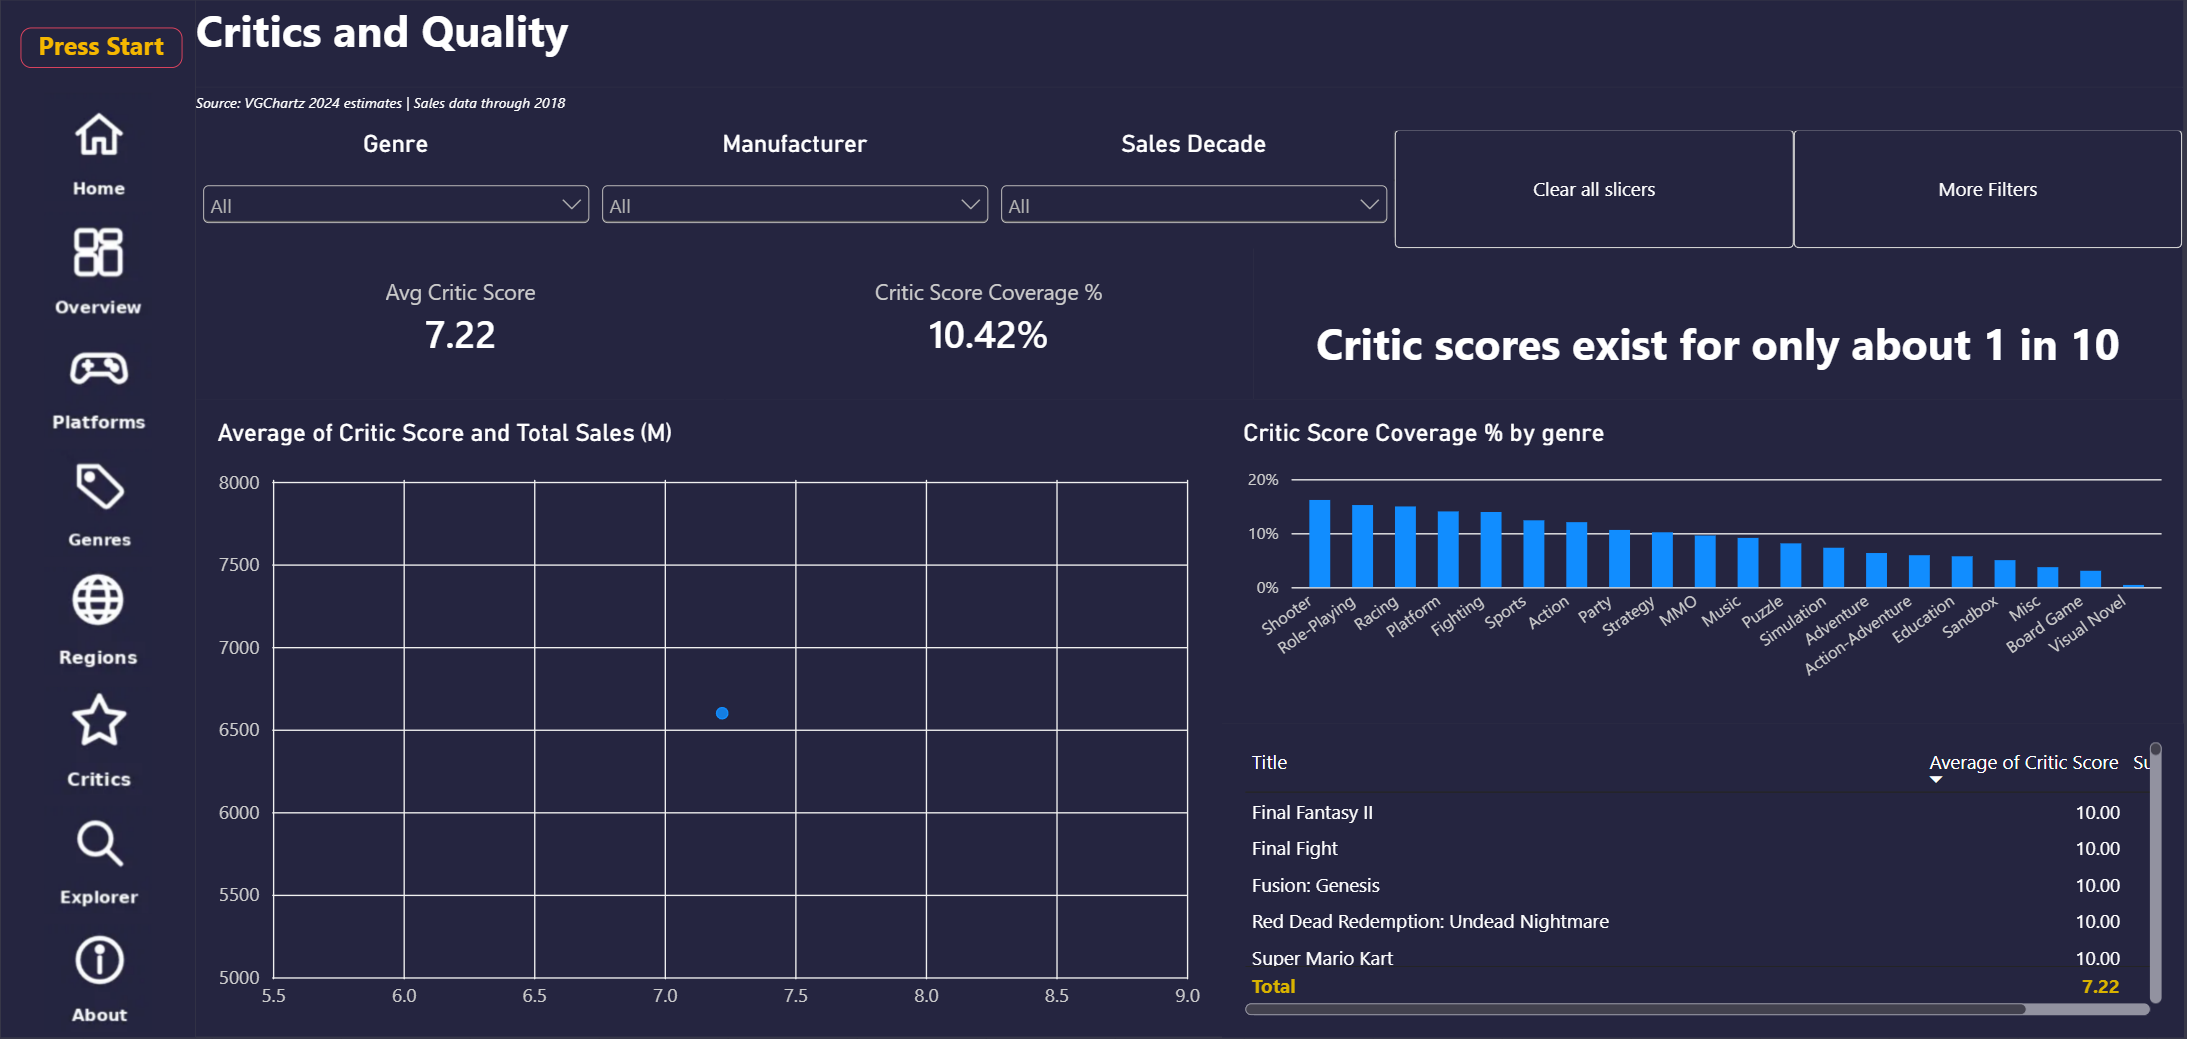

This screenshot's page, from the dashboard's own definition file:
{"tool":"powerbi","page":{"name":"Critics","canvas":[1920,1080],"ordinal":5},"visuals":[{"type":"shape","box":[35.6,59,144,768],"z":0},{"type":"textbox","box":[49.6,79,120,30],"z":1000},{"type":"textbox","box":[179.6,123,1472,32],"z":1000,"group":"g1"},{"type":"textbox","box":[179.6,59,1472,64],"z":2000},{"type":"cardVisual","fields":{"Data":["Games.Avg Critic Score"]},"box":[179.6,235,392,120],"z":3000},{"type":"cardVisual","fields":{"Data":["Games.Critic Score Coverage %"]},"box":[571.6,235,392,120],"z":4000},{"type":"textbox","box":[963.6,235,688,120],"z":5000},{"type":"scatterChart","fields":{"X":["Avg(Games.critic_score)"],"Y":["Games.Total Sales (M)"]},"box":[179.6,355,760,472],"z":6000},{"type":"clusteredColumnChart","fields":{"Category":["Games.Genre"],"Y":["Games.Critic Score Coverage %"]},"box":[939.6,355,712,240],"z":7000},{"type":"tableEx","fields":{"Values":["Games.title","Avg(Games.critic_score)","Sum(Games.total_sales)"]},"box":[939.6,595,712,232],"z":8000},{"type":"actionButton","box":[35.6,123,144,88],"z":10000},{"type":"actionButton","box":[35.6,299,144,88],"z":11000},{"type":"actionButton","box":[35.6,211,144,88],"z":12000},{"type":"actionButton","box":[35.6,387,144,88],"z":13000},{"type":"actionButton","box":[35.6,475,144,88],"z":14000},{"type":"actionButton","box":[35.6,563,144,88],"z":15000},{"type":"actionButton","box":[35.6,651,144,88],"z":16000},{"type":"actionButton","box":[35.6,739,144,88],"z":17000},{"type":"slicer","title":"Genre","fields":{"Values":["Games.Genre"]},"box":[179.6,155,296,88],"z":18000},{"type":"slicer","title":"Manufacturer","fields":{"Values":["Console_Map.Manufacturer"]},"box":[475.6,155,296,88],"z":19000},{"type":"slicer","title":"Sales Decade","fields":{"Values":["Games.sales_decade"]},"box":[771.6,155,296,88],"z":20000},{"type":"actionButton","box":[1067.6,155,296,88],"z":21000},{"type":"actionButton","box":[1363.6,155,288,88],"z":22000},{"type":"group","id":"g1","title":"Group 1","box":[179.6,123,1472,32],"z":23000}]}

Visuals, with their boxes on the page's 1920x1080 design canvas (x1, y1, x2, y2). These are canvas units, not pixel positions in the 2187x1039 screenshot, which may show the page scaled, cropped or inside an application window:
shape: <bbox>36, 59, 180, 827</bbox>
textbox: <bbox>50, 79, 170, 109</bbox>
textbox: <bbox>180, 123, 1652, 155</bbox>
textbox: <bbox>180, 59, 1652, 123</bbox>
cardVisual - Games.Avg Critic Score: <bbox>180, 235, 572, 355</bbox>
cardVisual - Games.Critic Score Coverage %: <bbox>572, 235, 964, 355</bbox>
textbox: <bbox>964, 235, 1652, 355</bbox>
scatterChart - Avg(Games.critic_score) x Games.Total Sales (M): <bbox>180, 355, 940, 827</bbox>
clusteredColumnChart - Games.Genre x Games.Critic Score Coverage %: <bbox>940, 355, 1652, 595</bbox>
tableEx - Games.title x Avg(Games.critic_score): <bbox>940, 595, 1652, 827</bbox>
actionButton: <bbox>36, 123, 180, 211</bbox>
actionButton: <bbox>36, 299, 180, 387</bbox>
actionButton: <bbox>36, 211, 180, 299</bbox>
actionButton: <bbox>36, 387, 180, 475</bbox>
actionButton: <bbox>36, 475, 180, 563</bbox>
actionButton: <bbox>36, 563, 180, 651</bbox>
actionButton: <bbox>36, 651, 180, 739</bbox>
actionButton: <bbox>36, 739, 180, 827</bbox>
"Genre" slicer: <bbox>180, 155, 476, 243</bbox>
"Manufacturer" slicer: <bbox>476, 155, 772, 243</bbox>
"Sales Decade" slicer: <bbox>772, 155, 1068, 243</bbox>
actionButton: <bbox>1068, 155, 1364, 243</bbox>
actionButton: <bbox>1364, 155, 1652, 243</bbox>
"Group 1" group: <bbox>180, 123, 1652, 155</bbox>
